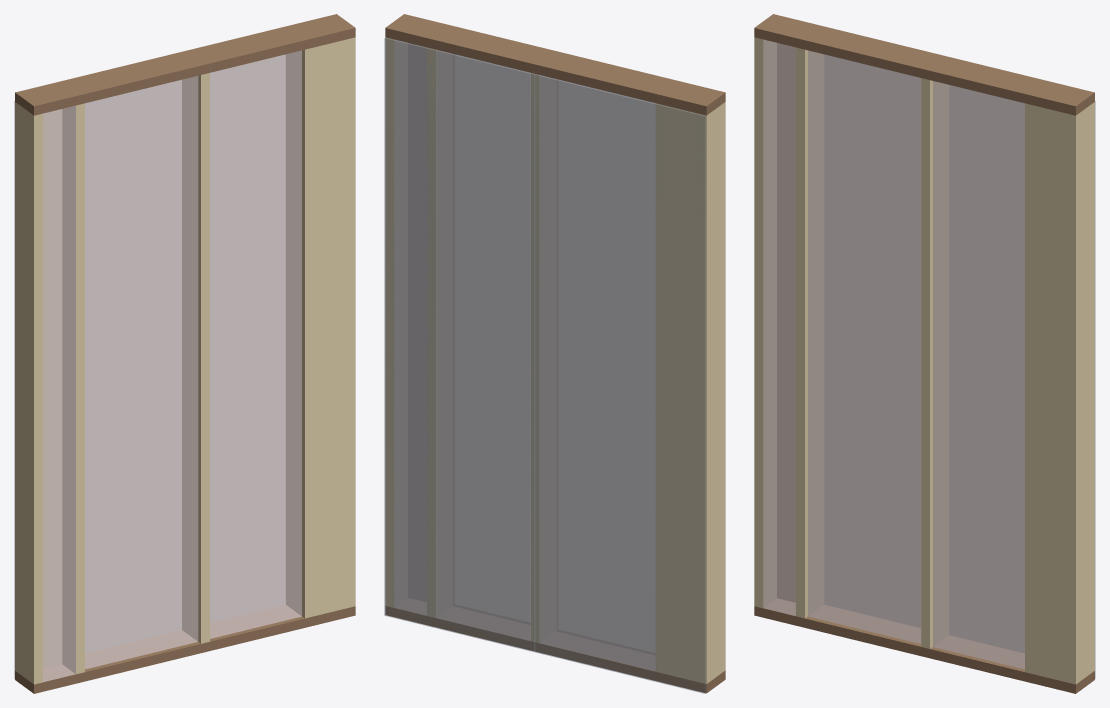
The picture shows the model from 3 angles, left to right: view 1: azimuth 30°, elevation 25°; view 2: azimuth 150°, elevation 25°; view 3: azimuth 330°, elevation 25°; orthographic projection.
Parts seen in each view (by area): view 1: EX13 GF; view 2: EX13 GF; view 3: EX13 GF.
Boxes of the visible parts, x1,y1,x2,y2 form: EX13 GF: (14, 14, 355, 693); EX13 GF: (384, 14, 725, 693); EX13 GF: (754, 14, 1095, 693).
Bounding box in the file's own units: 1.37 × 2.39 × 0.149.
